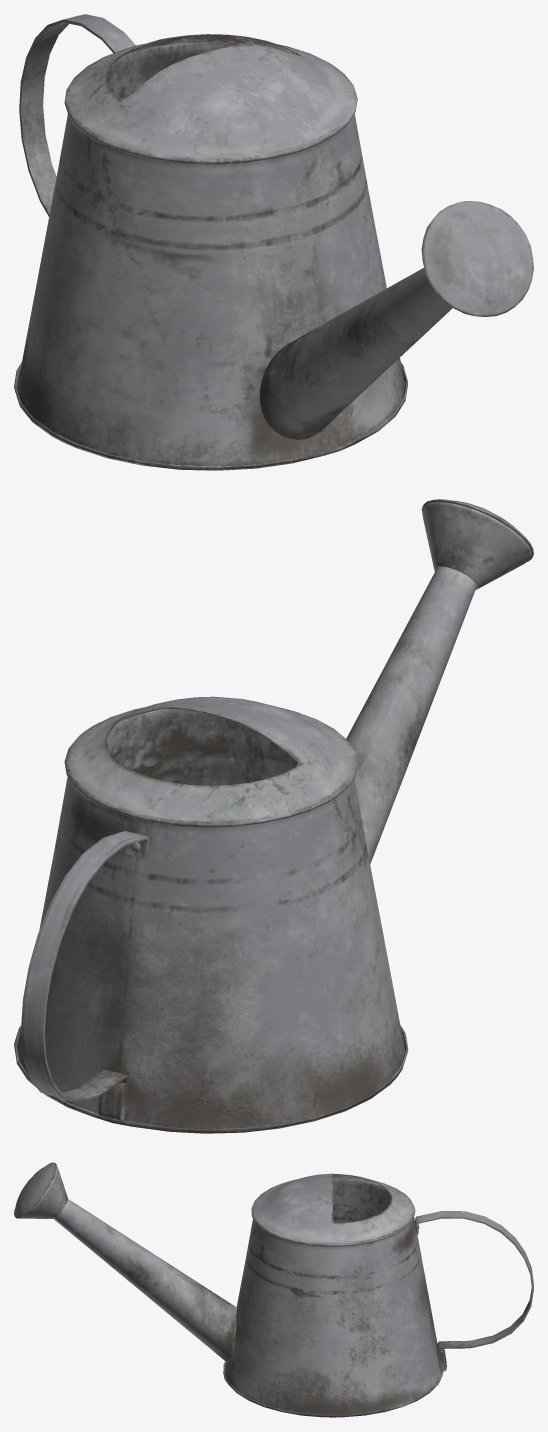
Rendered from watering_can_metal_01.glb.
The picture shows the model from 3 angles, top to bottom: view 1: azimuth 30°, elevation 25°; view 2: azimuth 150°, elevation 25°; view 3: azimuth 270°, elevation 25°; orthographic projection. The views are drawn at different scales.
Parts seen in each view (by area): view 1: watering_can_metal_01; view 2: watering_can_metal_01; view 3: watering_can_metal_01.
Boxes of the visible parts, x1,y1,x2,y2 form: watering_can_metal_01: (14,14,533,470); watering_can_metal_01: (14,499,533,1133); watering_can_metal_01: (14,1162,533,1417).
Bounding box in the file's own units: 0.1909 × 0.1967 × 0.4523.
Materials: 1 (1 with a texture image).
